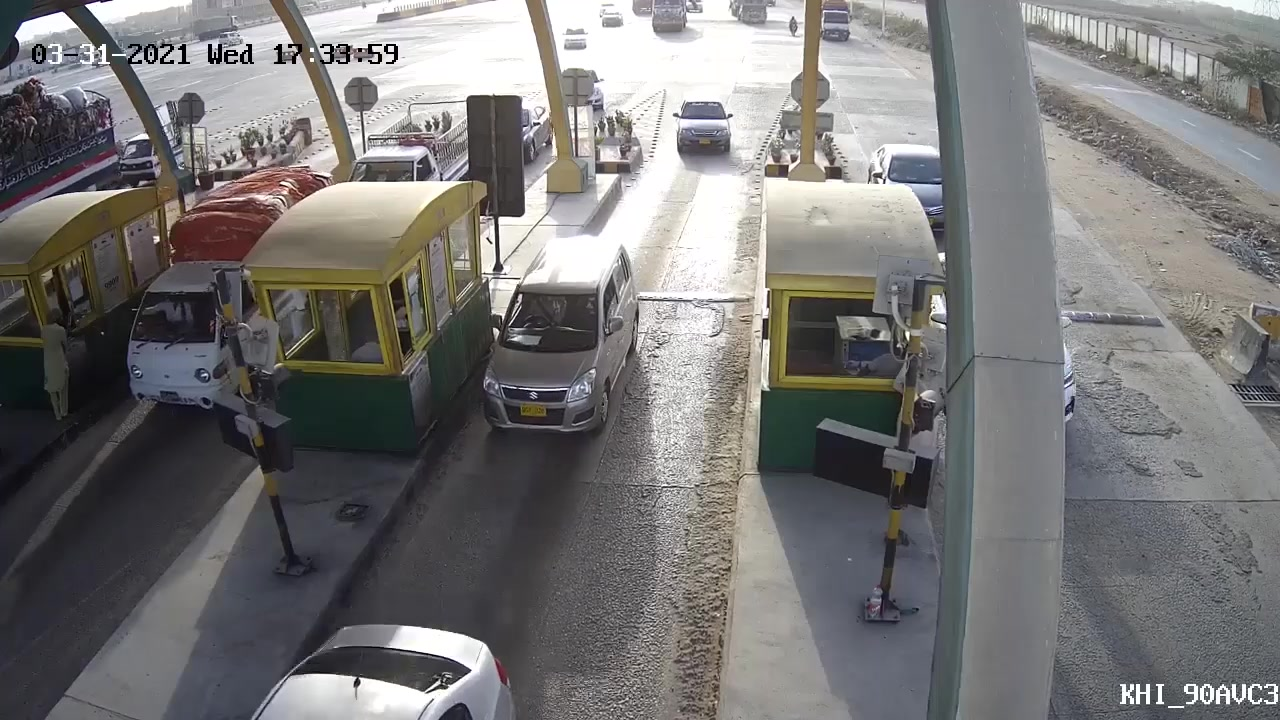F1: (460, 227, 648, 446)
